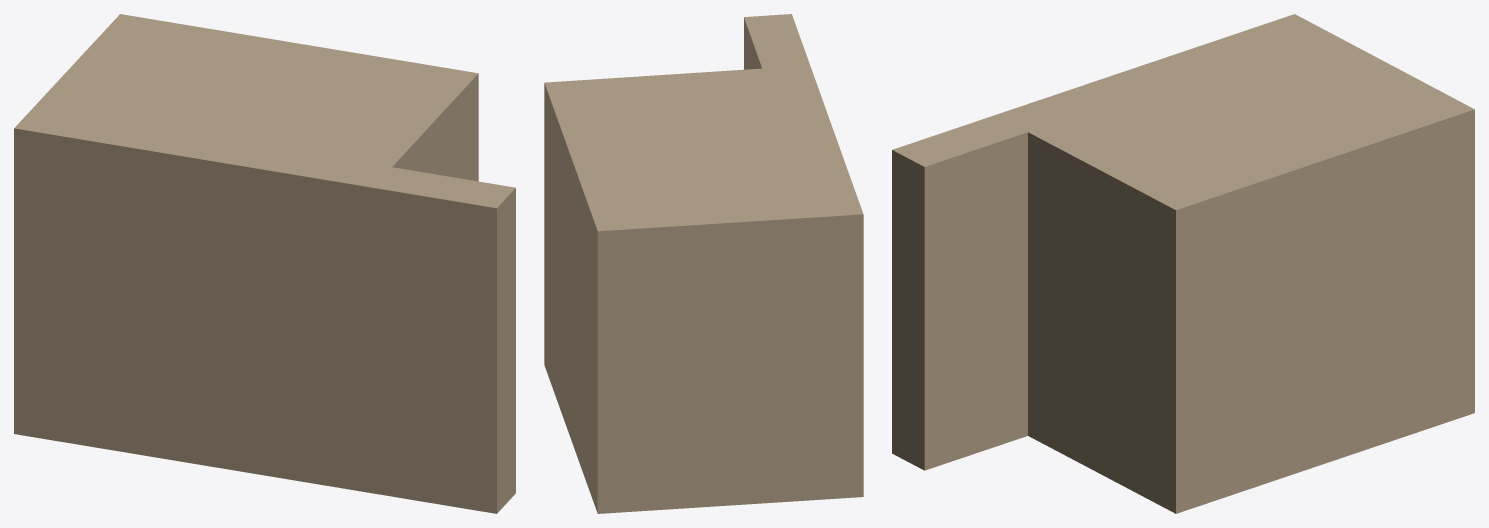
Rendered from bld_101979816.dae.
3 views of the same model, side by side, from view 1: azimuth 30°, elevation 25°; view 2: azimuth 150°, elevation 25°; view 3: azimuth 270°, elevation 25° (orthographic). The views are drawn at different scales.
Parts seen in each view (by area): view 1: bld_101979816; view 2: bld_101979816; view 3: bld_101979816.
Part boxes in pixels (<box>): bld_101979816: <box>14,14,515,513</box>; bld_101979816: <box>544,14,863,513</box>; bld_101979816: <box>892,14,1474,513</box>.
Size of the model in its own units: 11.09 by 13.91 by 8.
